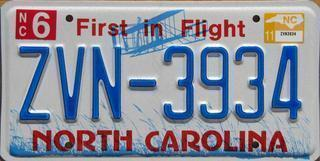placa de veiculo: (2, 2, 309, 156)
